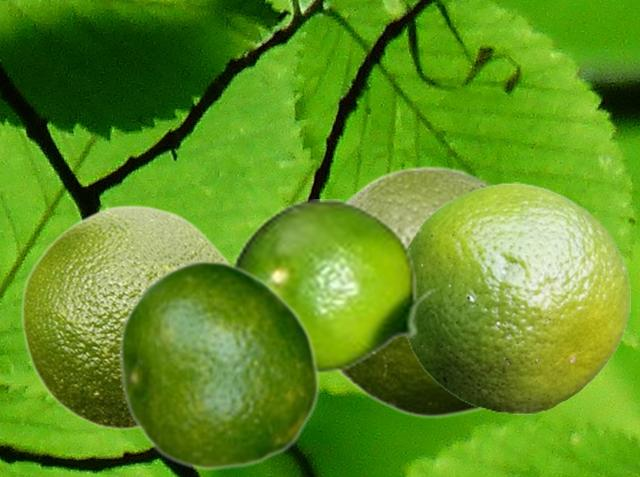calamansi: (404, 182, 629, 413), (20, 204, 227, 430), (117, 258, 320, 470), (338, 163, 493, 418), (228, 199, 438, 373)
